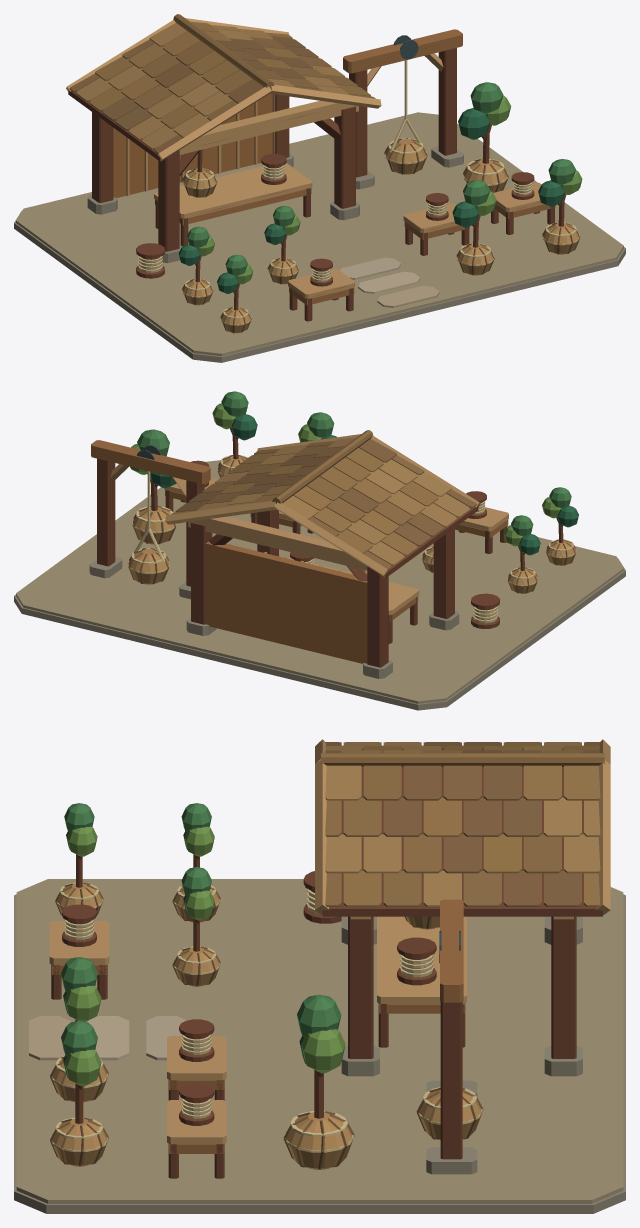
3 views of the same model, one above another, from view 1: azimuth 30°, elevation 25°; view 2: azimuth 150°, elevation 25°; view 3: azimuth 270°, elevation 25° (orthographic). The views are drawn at different scales.
Visible parts, largest first — view 1: Base, Staff10, Staff08, Staff09, Staff06, Staff04, Staff03, Staff07, Staff05; view 2: Base, Staff08, Staff07, Staff03, Staff09, Staff10, Staff04; view 3: Base, Staff08, Staff04, Staff09, Staff06, Staff10, Staff05, Staff07, Staff03.
Part boxes in pixels (box(x1,y1,x2,y2)): Base: box(14, 14, 625, 362); Staff10: box(452, 179, 496, 275); Staff08: box(538, 159, 582, 254); Staff09: box(288, 258, 354, 321); Staff06: box(403, 193, 469, 255); Staff04: box(491, 172, 555, 234); Staff03: box(178, 226, 214, 305); Staff07: box(217, 254, 253, 333); Staff05: box(264, 205, 300, 284); Base: box(14, 429, 625, 710); Staff08: box(212, 391, 257, 477); Staff07: box(542, 487, 578, 565); Staff03: box(503, 515, 540, 593); Staff09: box(455, 491, 508, 553); Staff10: box(298, 412, 336, 442); Staff04: box(164, 460, 218, 511); Base: box(14, 739, 625, 1213); Staff08: box(50, 1021, 108, 1166); Staff04: box(167, 1083, 226, 1178); Staff09: box(49, 904, 109, 999); Staff06: box(167, 1019, 226, 1100); Staff10: box(50, 957, 108, 1102); Staff05: box(172, 867, 220, 986); Staff07: box(55, 803, 103, 915); Staff03: box(172, 803, 220, 922).
Bounding box in the file's own units: 9 × 3.4 × 7.2.
